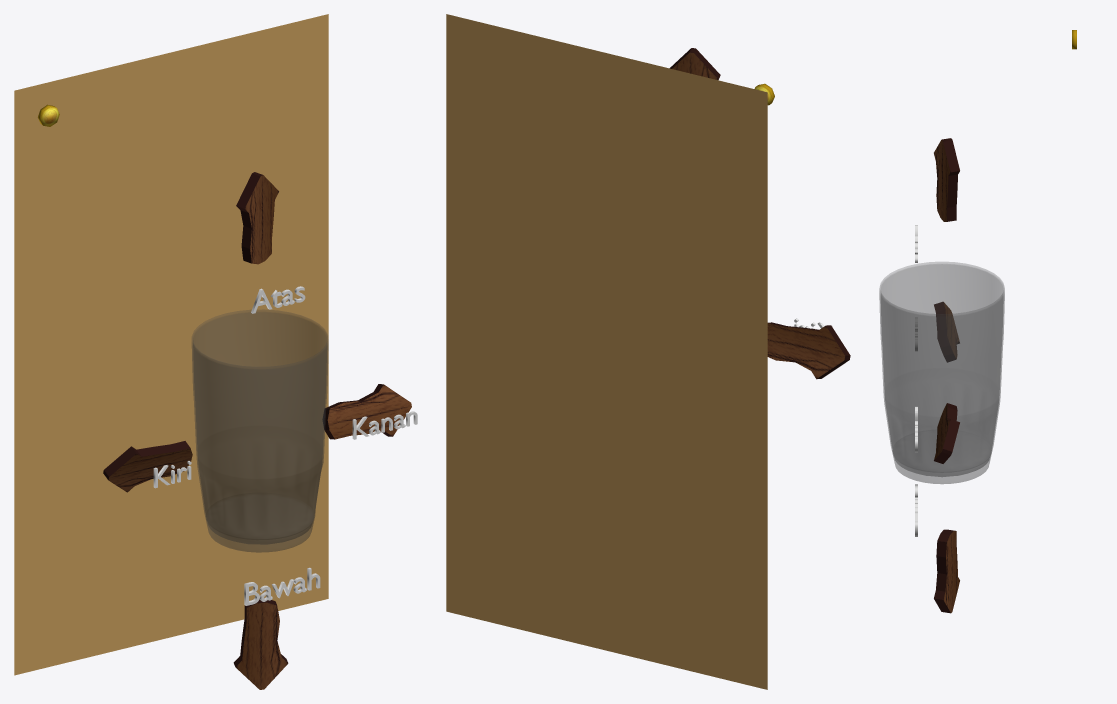
The model's file is Menu2.fbx.
3 views of the same model, side by side, from view 1: azimuth 30°, elevation 25°; view 2: azimuth 150°, elevation 25°; view 3: azimuth 270°, elevation 25° (orthographic). The views are drawn at different scales.
Visible parts, largest first — view 1: Background4, Glass, Panah.B2, Panah.R2, Panah.T2, Panah.L2, Bawah, Kanan, Atas; view 2: Background4, Panah.L2, Panah.T2; view 3: Glass, Panah.B2, Panah.T2, Panah.R2, Panah.L2.
Boxes of the visible parts, left/top/right/bottom form: Background4: left=14, top=14, right=328, bottom=675; Glass: left=192, top=309, right=328, bottom=552; Panah.B2: left=233, top=598, right=288, bottom=689; Panah.R2: left=322, top=384, right=411, bottom=439; Panah.T2: left=236, top=172, right=278, bottom=264; Panah.L2: left=103, top=441, right=192, bottom=492; Bawah: left=244, top=567, right=320, bottom=605; Kanan: left=352, top=411, right=417, bottom=439; Atas: left=251, top=286, right=305, bottom=313; Background4: left=446, top=14, right=767, bottom=689; Panah.L2: left=767, top=322, right=850, bottom=379; Panah.T2: left=669, top=48, right=720, bottom=79; Glass: left=879, top=262, right=1004, bottom=483; Panah.B2: left=934, top=529, right=959, bottom=613; Panah.T2: left=934, top=138, right=959, bottom=221; Panah.R2: left=934, top=403, right=959, bottom=463; Panah.L2: left=934, top=302, right=959, bottom=362.
Size of the model in its own units: 324 by 576 by 218.
